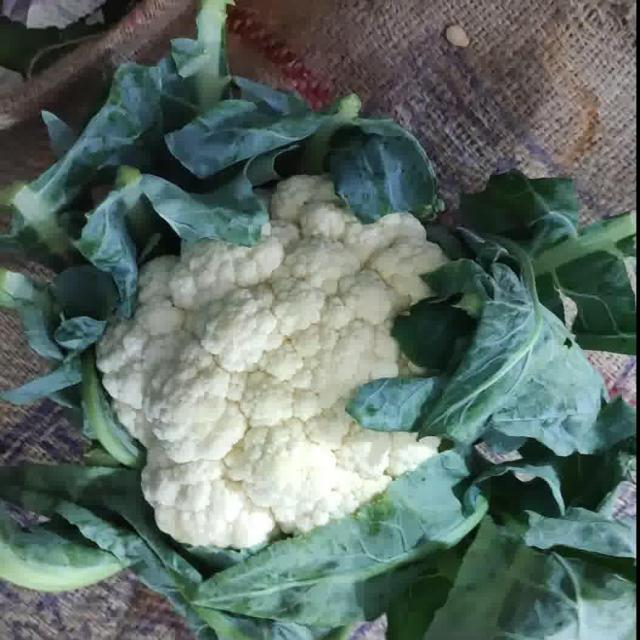Cauliflower: (96, 169, 492, 559)
